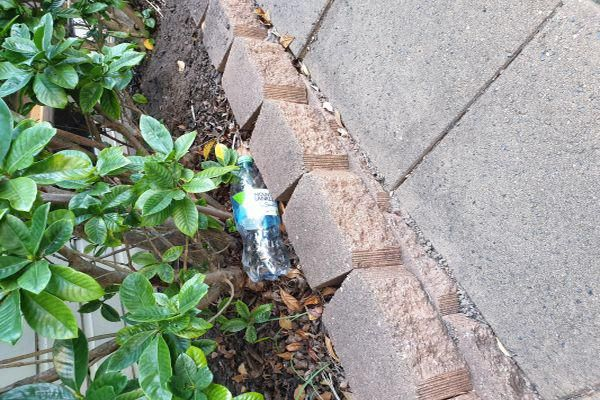Plastic Bottle: (231, 155, 291, 283)
